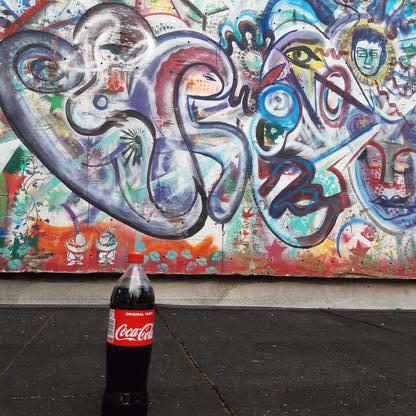coca-cola: (100, 250, 158, 415)
